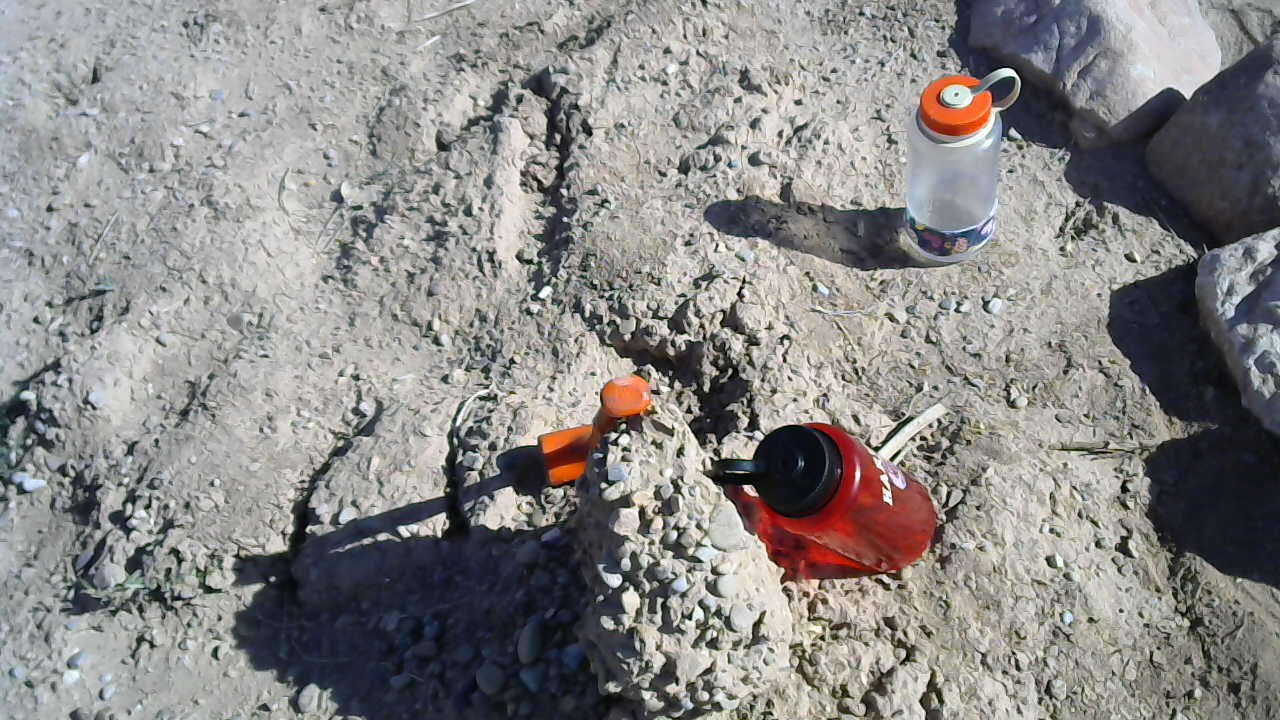bottle: (711, 420, 936, 576), (897, 66, 1023, 269)
hammer: (532, 371, 652, 489)
